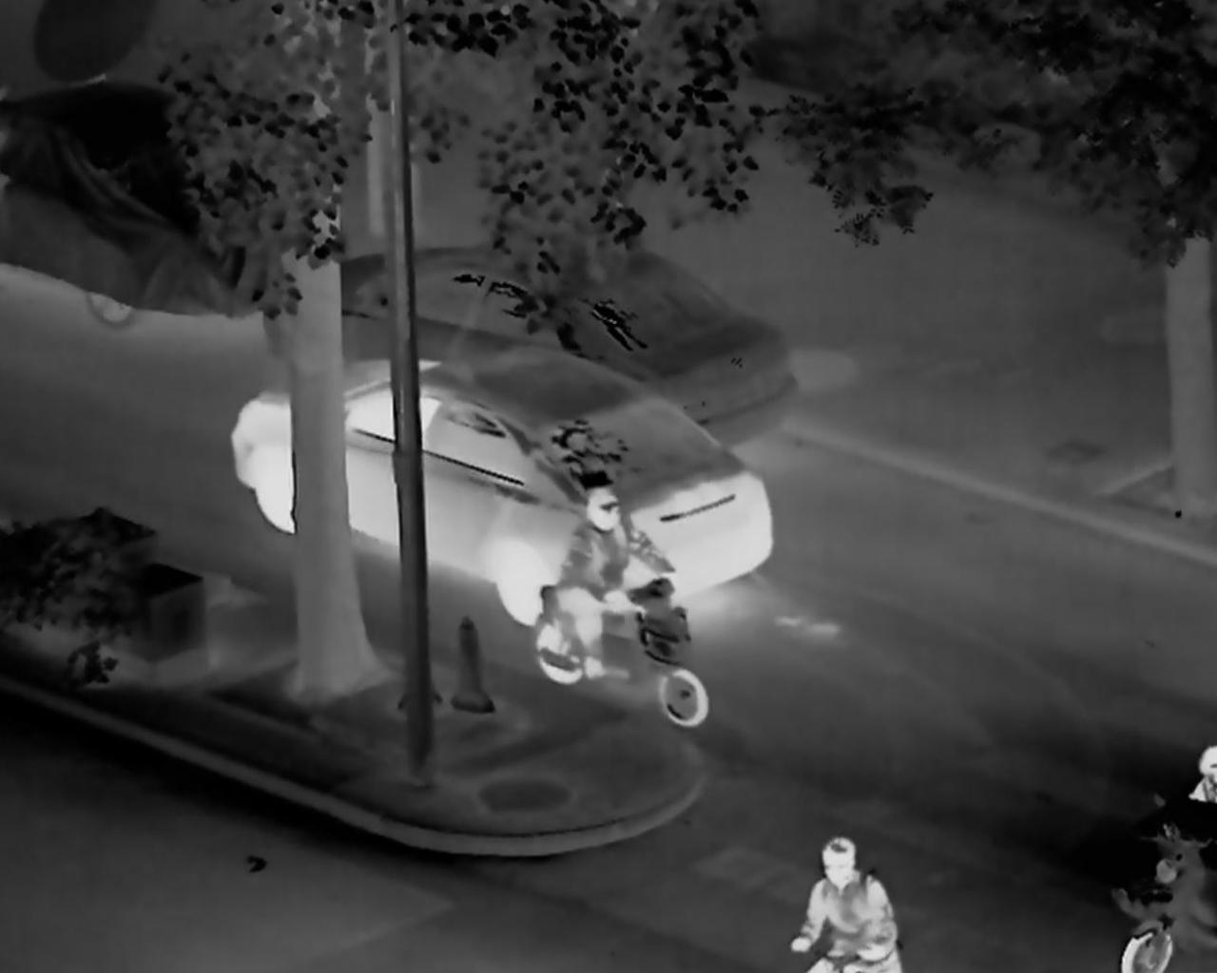person: (557, 487, 677, 681), (795, 837, 902, 973)
